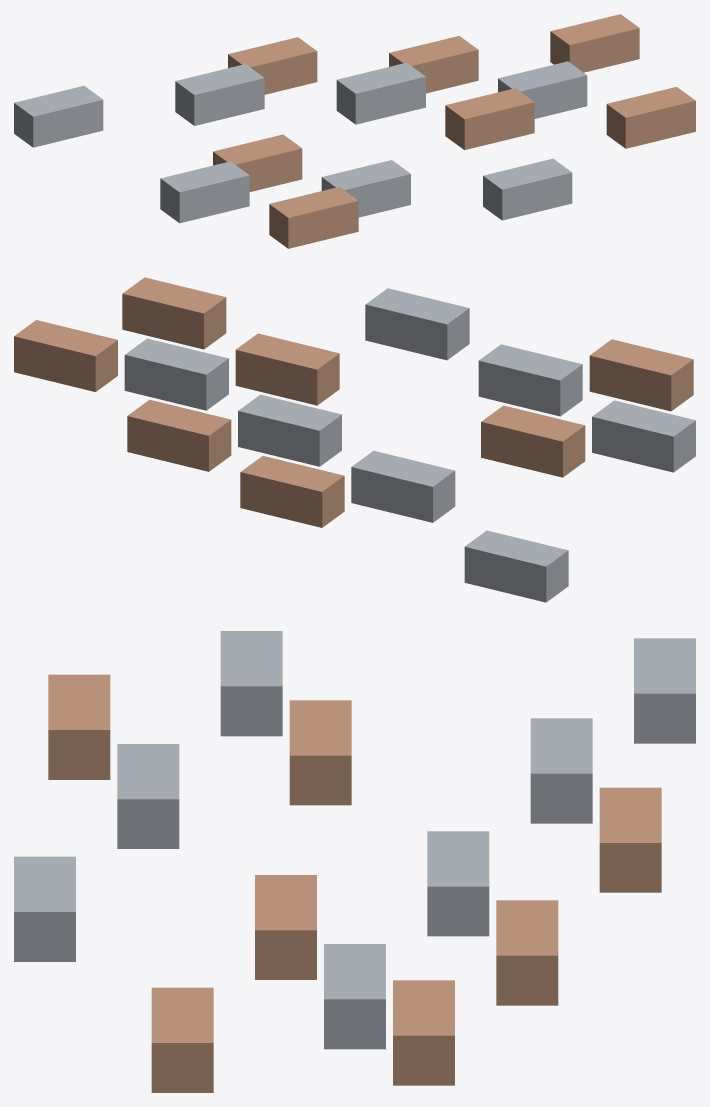
File: escombros.glb
The picture shows the model from 3 angles, top to bottom: view 1: azimuth 30°, elevation 25°; view 2: azimuth 150°, elevation 25°; view 3: azimuth 270°, elevation 25°; orthographic projection. The views are drawn at different scales.
Parts seen in each view (by area): view 1: escombros; view 2: escombros; view 3: escombros.
Part boxes in pixels (x1,y1,x2,y2): escombros: [14, 14, 695, 248]; escombros: [14, 277, 695, 602]; escombros: [14, 631, 695, 1092].
Size of the model in its own units: 2.88 by 0.23 by 1.98.
